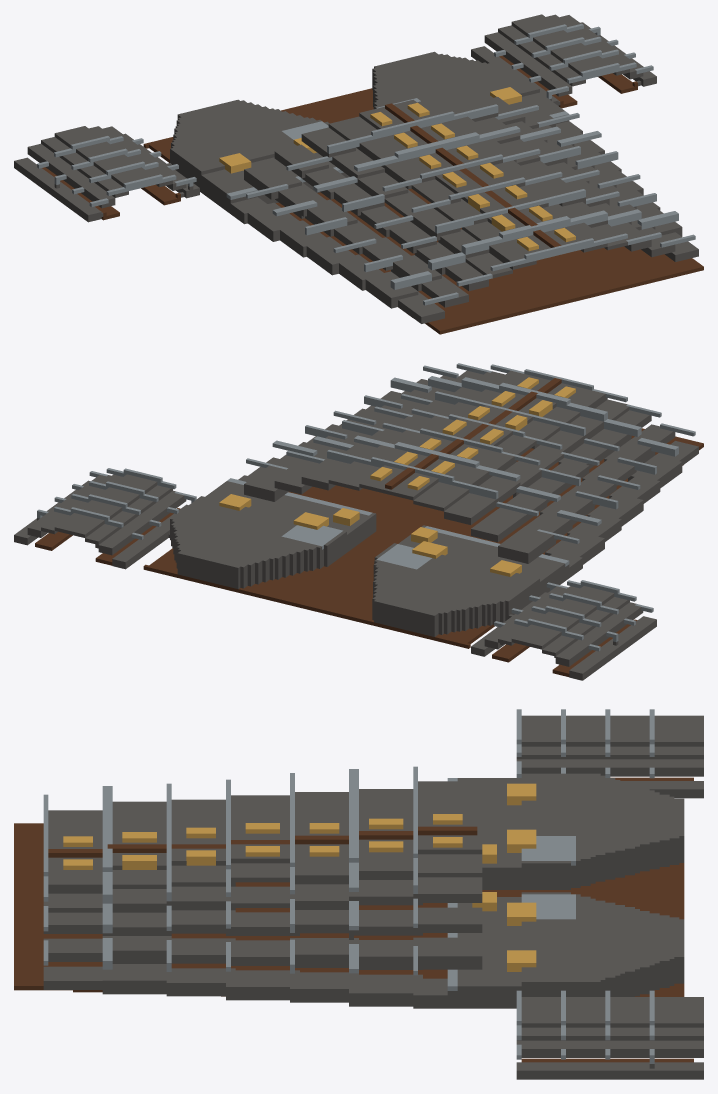
The model's file is armor_lorica.glb.
The picture shows the model from 3 angles, top to bottom: view 1: azimuth 30°, elevation 25°; view 2: azimuth 150°, elevation 25°; view 3: azimuth 270°, elevation 25°; orthographic projection. The views are drawn at different scales.
Parts seen in each view (by area): view 1: armor_lorica:compound; view 2: armor_lorica:compound; view 3: armor_lorica:compound.
Boxes of the visible parts, x1,y1,x2,y2 form: armor_lorica:compound: (14,14,703,334); armor_lorica:compound: (14,363,703,680); armor_lorica:compound: (14,709,703,1079).
Size of the model in its own units: 0.672 by 0.072 by 0.56.
